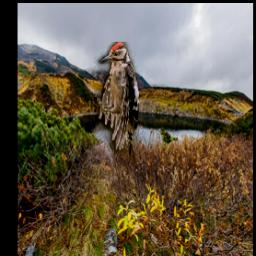Sparrow: (159, 128, 179, 151)
Woodpecker: (95, 43, 140, 163)
